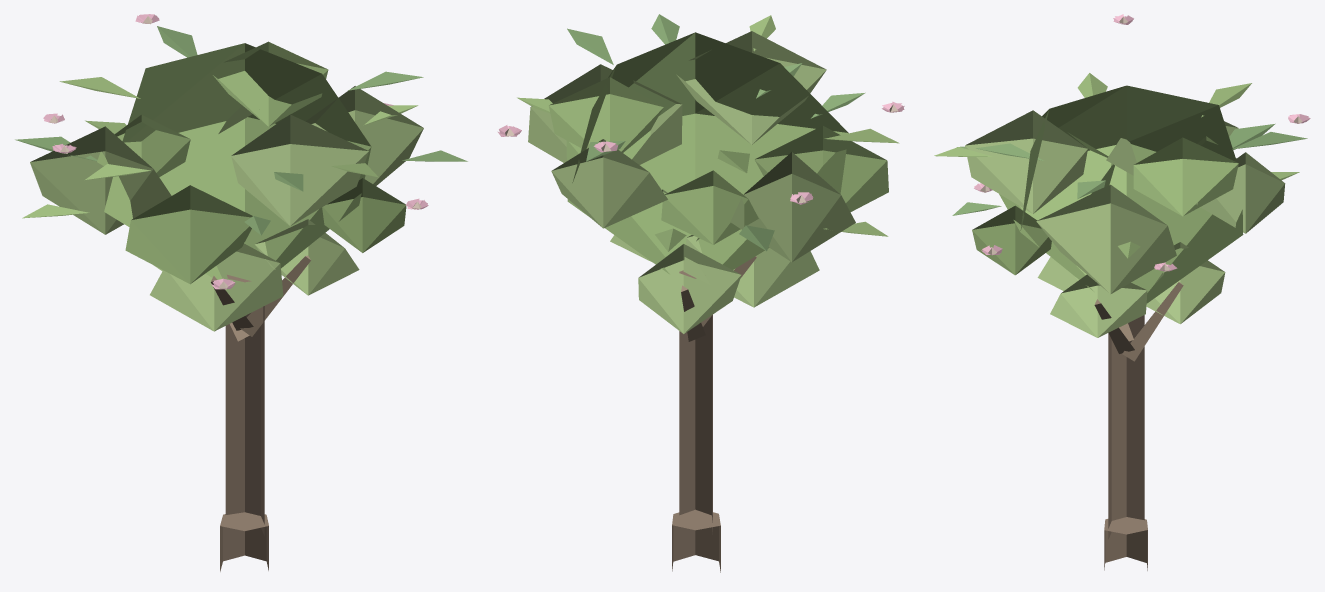
The model's file is shu.paotong__spring.glb.
3 views of the same model, side by side, from view 1: azimuth 30°, elevation 25°; view 2: azimuth 150°, elevation 25°; view 3: azimuth 270°, elevation 25° (orthographic). The views are drawn at different scales.
Parts seen in each view (by area): view 1: shu.paotong__spring; view 2: shu.paotong__spring; view 3: shu.paotong__spring.
Boxes of the visible parts, left/top/right/bottom form: shu.paotong__spring: left=15, top=14, right=467, bottom=571; shu.paotong__spring: left=497, top=14, right=904, bottom=572; shu.paotong__spring: left=934, top=14, right=1310, bottom=570.
Size of the model in its own units: 12.98 by 16.56 by 11.97.
